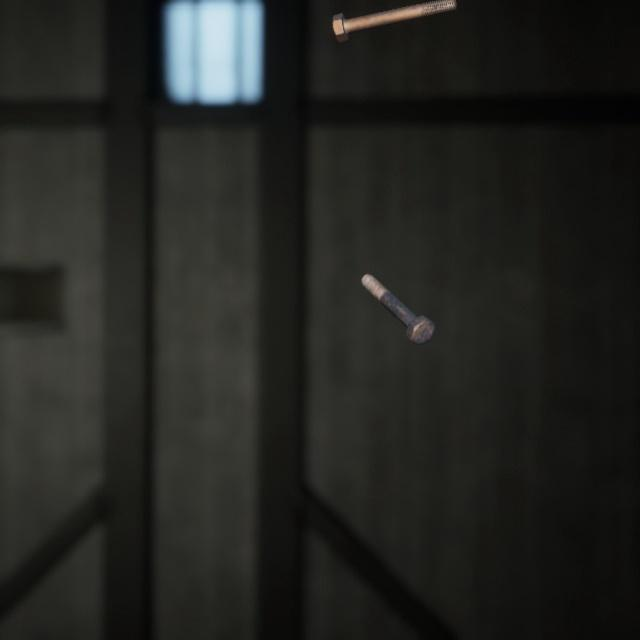bolt: (356, 253, 439, 332), (327, 0, 461, 40), (384, 613, 430, 640)
